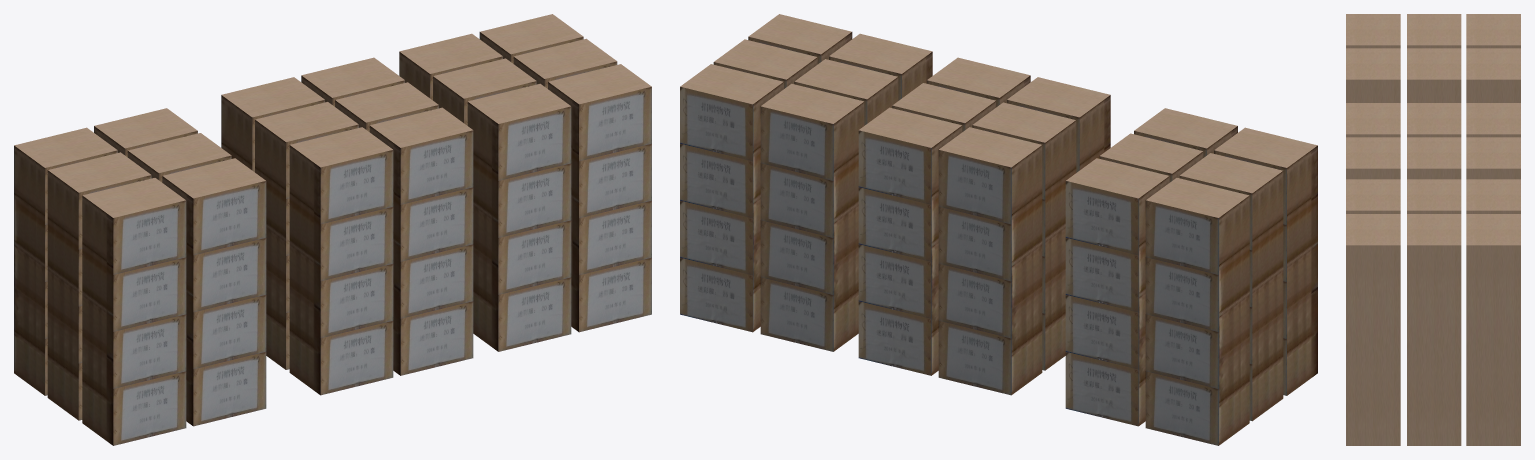
Rendered from micaifu.FBX.
3 renders of one model, left to right at view 1: azimuth 30°, elevation 25°; view 2: azimuth 150°, elevation 25°; view 3: azimuth 270°, elevation 25°, orthographic. The views are drawn at different scales.
Parts seen in each view (by area): view 1: Box3835, Box3836; view 2: Box3835, Box3836; view 3: Box3836, Box3835.
Part boxes in pixels (x1,y1,x2,y2): Box3835: [14, 57, 473, 445]; Box3836: [399, 14, 651, 351]; Box3835: [858, 57, 1317, 445]; Box3836: [680, 14, 932, 351]; Box3836: [1346, 179, 1520, 445]; Box3835: [1346, 14, 1520, 179].
Size of the model in its own units: 2.9 by 0.926 by 1.17.
